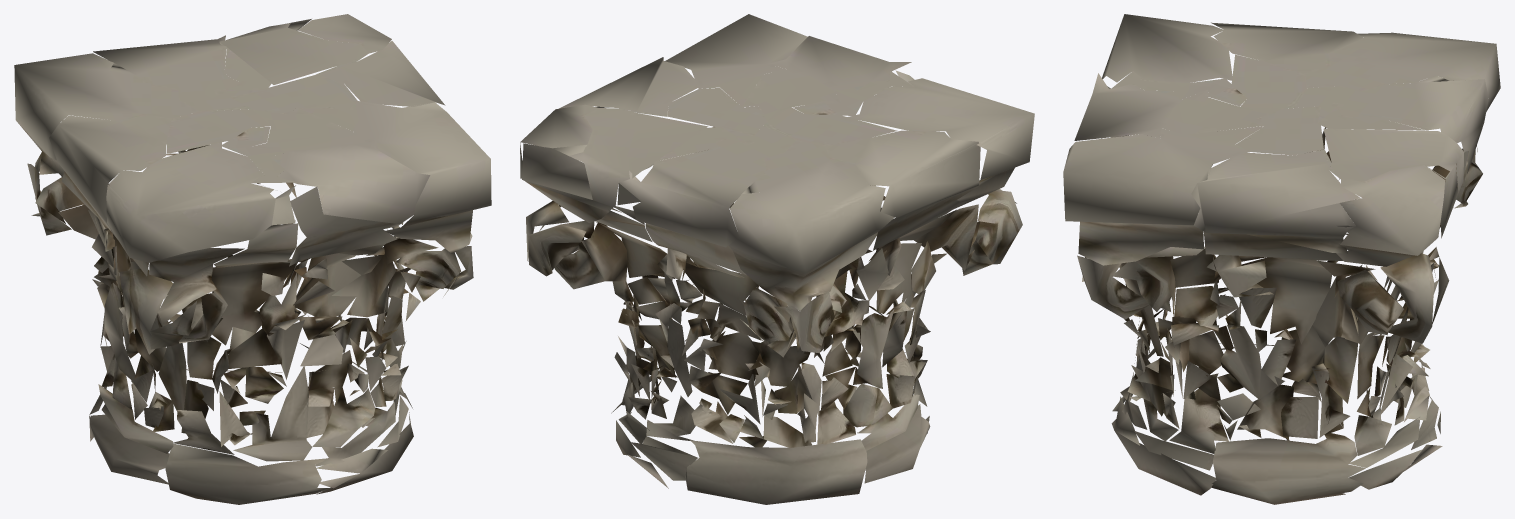
Rendered from penn_capital.glb.
The picture shows the model from 3 angles, left to right: view 1: azimuth 30°, elevation 25°; view 2: azimuth 150°, elevation 25°; view 3: azimuth 270°, elevation 25°; orthographic projection. The views are drawn at different scales.
Visible parts, largest first — view 1: tripo_node_59b92b68-87fa-48c0-85b7-b8b20d226e39; view 2: tripo_node_59b92b68-87fa-48c0-85b7-b8b20d226e39; view 3: tripo_node_59b92b68-87fa-48c0-85b7-b8b20d226e39.
Part boxes in pixels (x1,y1,x2,y2): tripo_node_59b92b68-87fa-48c0-85b7-b8b20d226e39: (14,14,491,504); tripo_node_59b92b68-87fa-48c0-85b7-b8b20d226e39: (520,14,1034,504); tripo_node_59b92b68-87fa-48c0-85b7-b8b20d226e39: (1063,14,1500,504).
Bounding box in the file's own units: 0.9886 × 0.8311 × 0.9701.
1 material, 1 textured.
